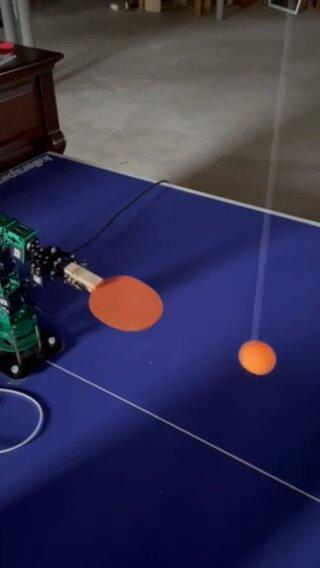oball: (239, 342, 276, 375)
